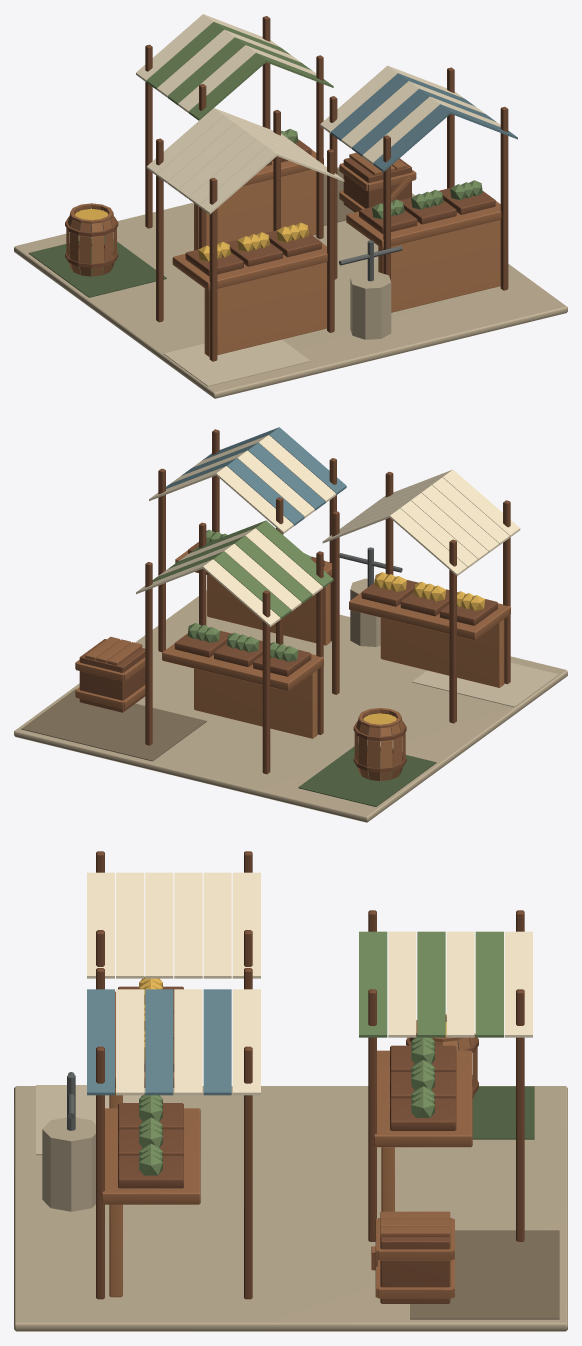
The model's file is market.glb.
3 renders of one model, top to bottom at view 1: azimuth 30°, elevation 25°; view 2: azimuth 150°, elevation 25°; view 3: azimuth 270°, elevation 25°, orthographic. The views are drawn at different scales.
Visible parts, largest first — view 1: market; view 2: market; view 3: market.
Boxes of the visible parts, x1=… form: market: x1=14, y1=14, x2=567, y2=398; market: x1=14, y1=427, x2=567, y2=822; market: x1=14, y1=851, x2=567, y2=1331.
Bounding box in the file's own units: 2.9 × 1.6 × 2.85.
